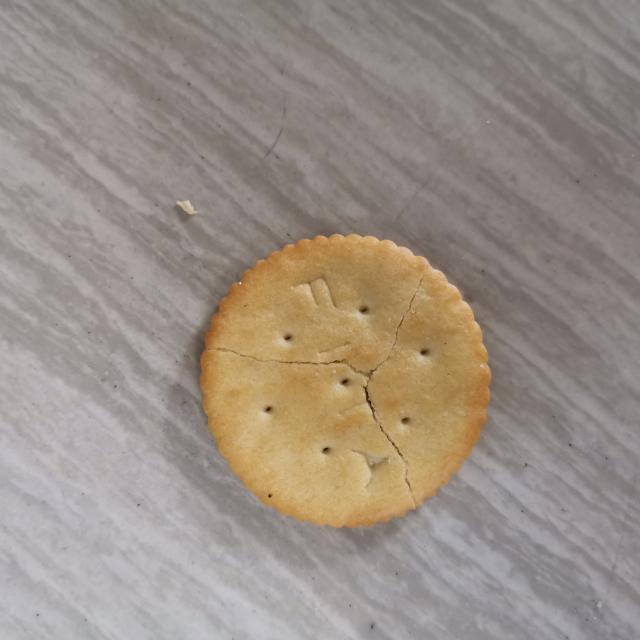Fracture: (203, 253, 454, 512)
